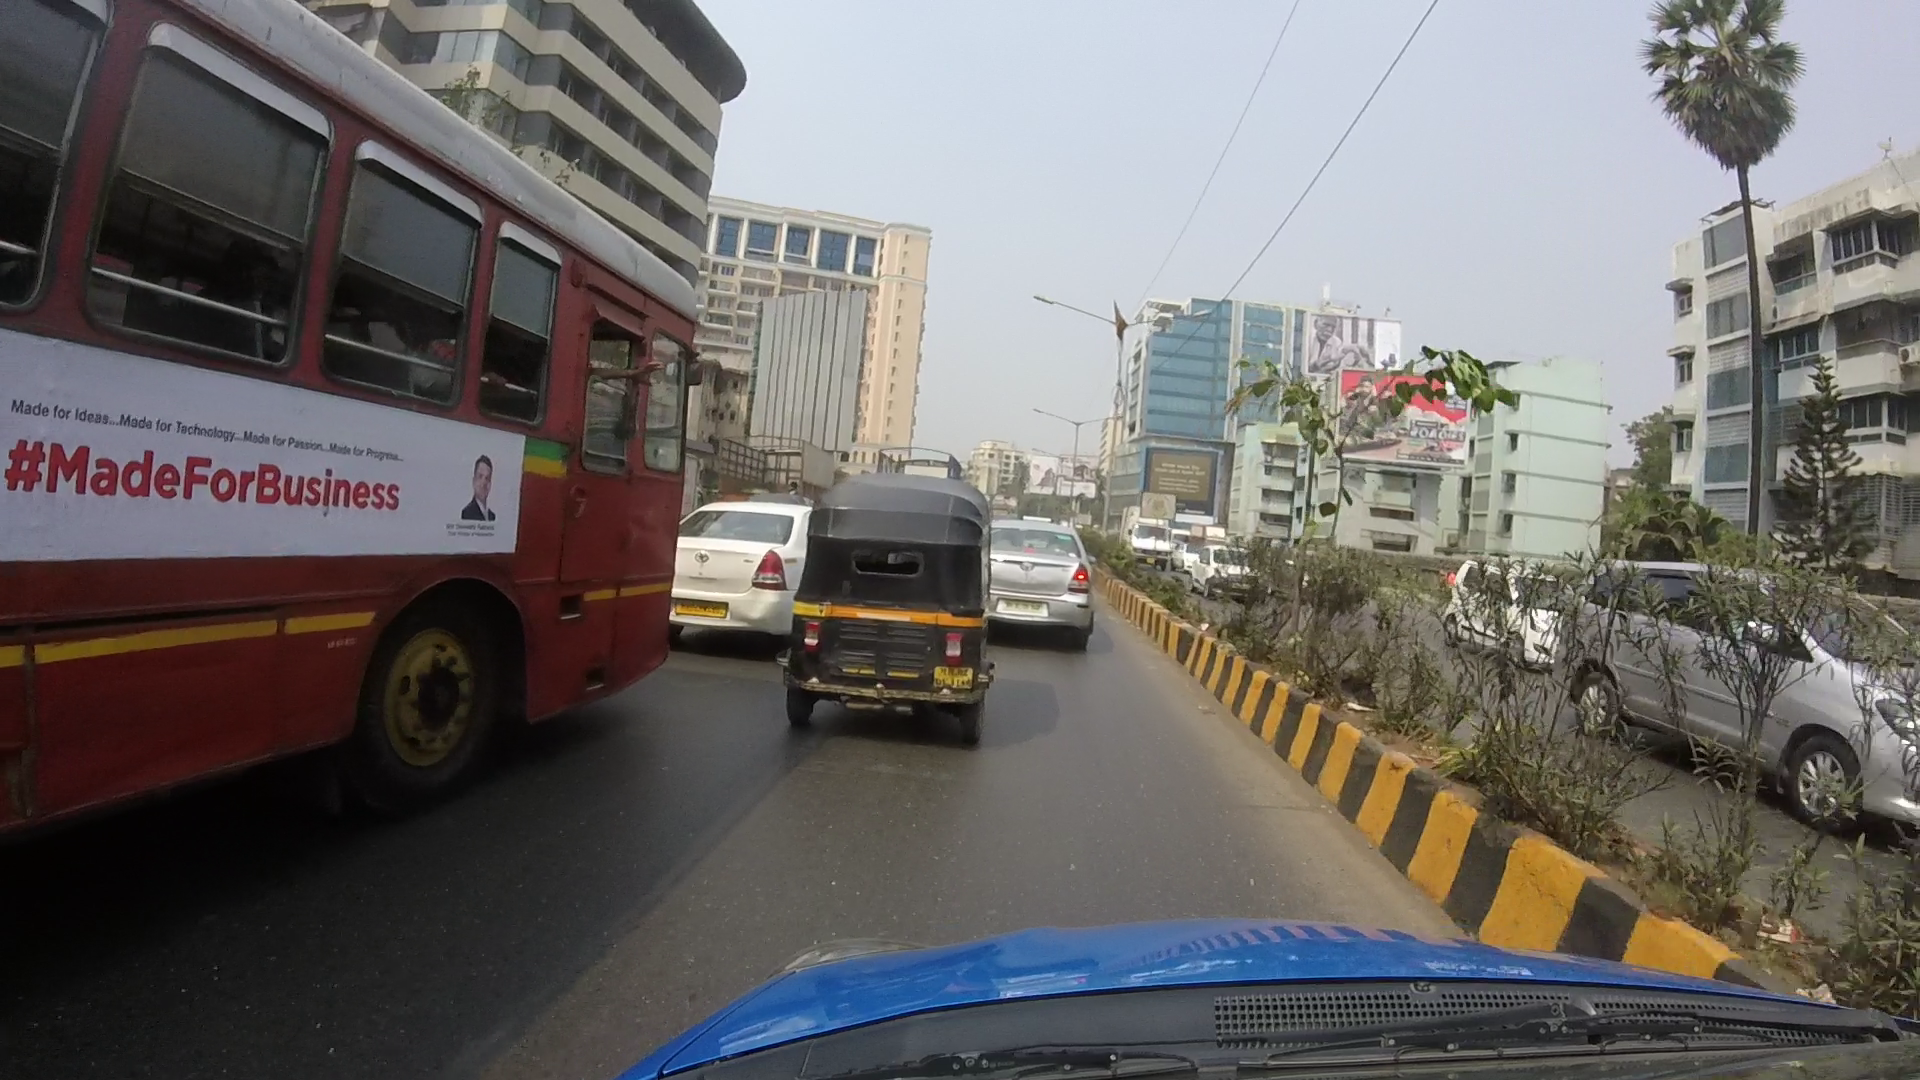bus: (11, 7, 692, 876)
car: (1542, 541, 1920, 836), (611, 454, 818, 645), (968, 513, 1101, 642)
rickshaw: (781, 472, 1015, 740)
